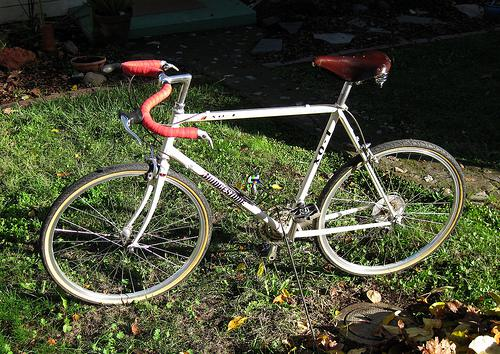car: (42, 51, 468, 308)
